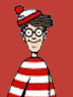waldo: (14, 4, 53, 53)
